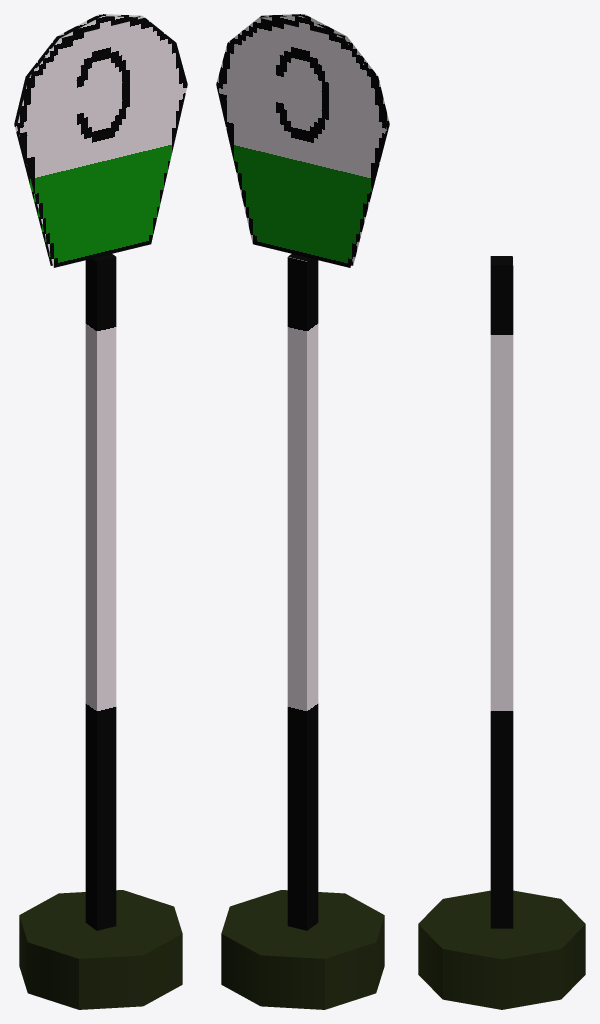
The model's file is c-sign-mapped.obj.
3 views of the same model, side by side, from view 1: azimuth 30°, elevation 25°; view 2: azimuth 150°, elevation 25°; view 3: azimuth 270°, elevation 25° (orthographic).
Visible parts, largest first — view 1: g0; view 2: g0; view 3: g0.
Part boxes in pixels (x1,y1,x2,y2): g0: (14,14,187,1009); g0: (216,14,389,1009); g0: (418,256,585,1009).
Size of the model in its own units: 0.875 by 4.7 by 0.75.
Materials: 1 (1 with a texture image).
